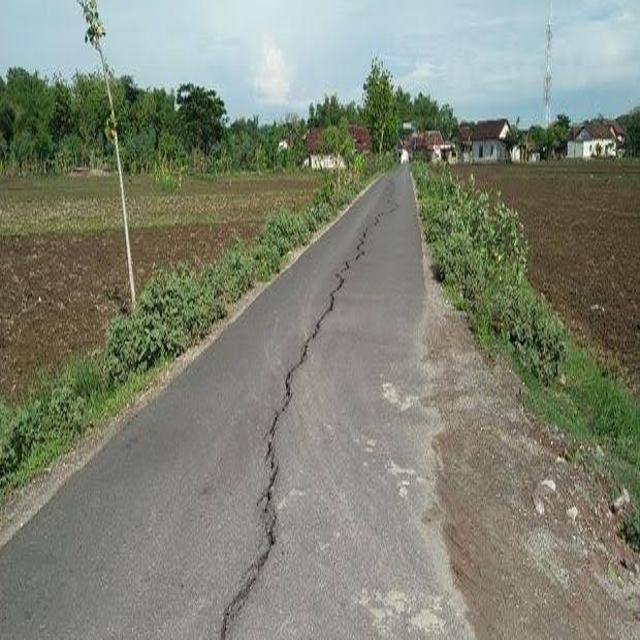Memanjang: (193, 198, 399, 640)
